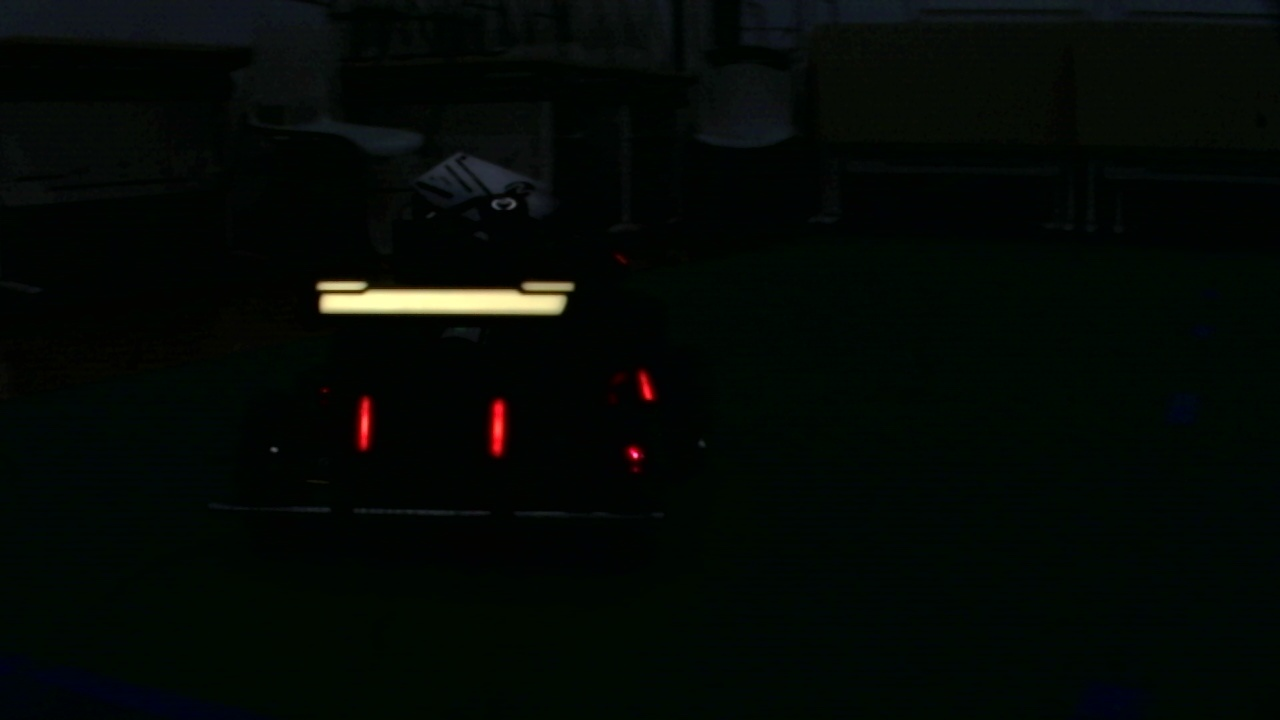lamp: (485, 390, 512, 469), (632, 363, 659, 406), (354, 395, 371, 455)
notpair1: (490, 360, 660, 471)
pair1: (357, 395, 508, 464)
